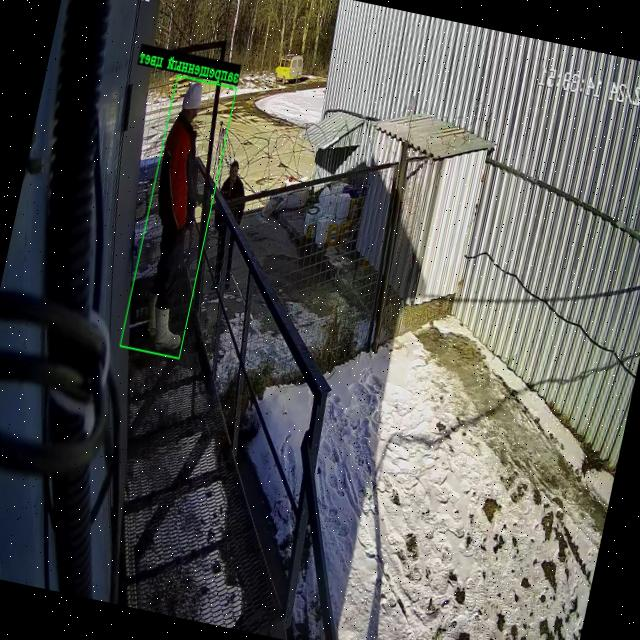Person: (214, 207, 234, 288), (220, 160, 245, 224)
Red uniform: (148, 83, 202, 350)
